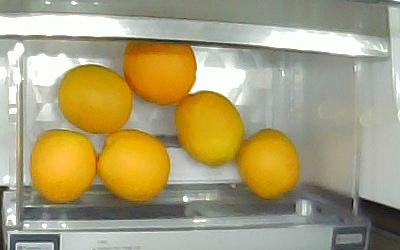orange: (97, 129, 170, 203), (58, 65, 134, 134), (174, 91, 243, 167), (30, 129, 96, 203), (123, 41, 197, 104), (237, 129, 299, 200)
